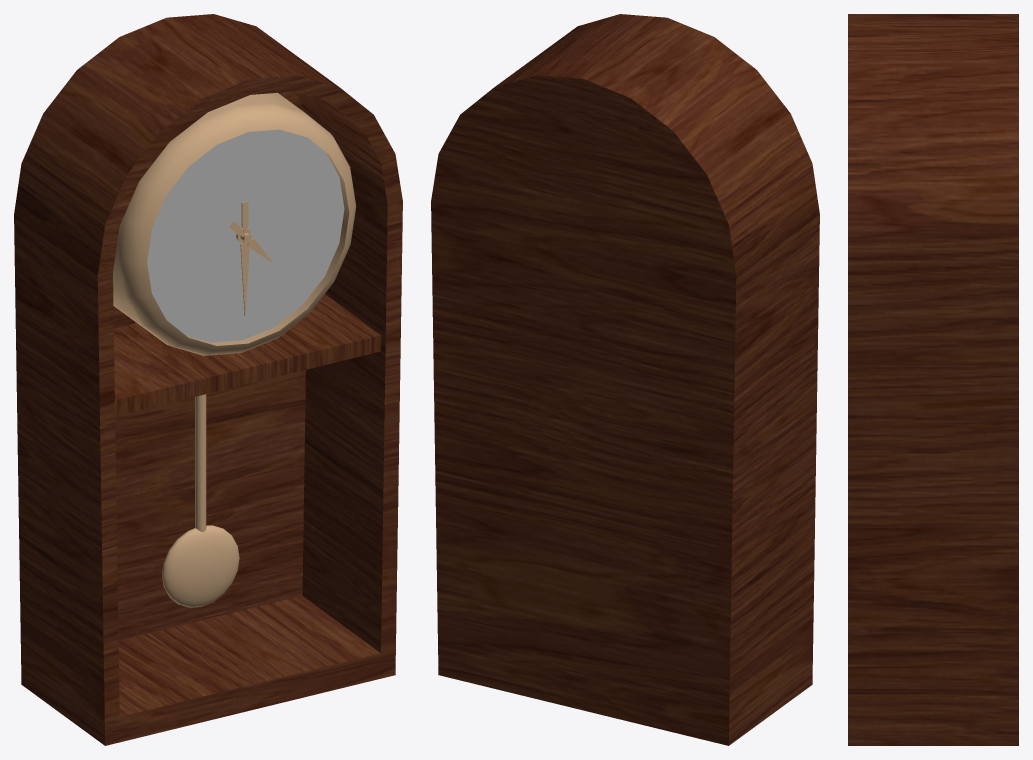
The model's file is clock.glb.
3 renders of one model, left to right at view 1: azimuth 30°, elevation 25°; view 2: azimuth 150°, elevation 25°; view 3: azimuth 270°, elevation 25°, orthographic.
Parts seen in each view (by area): view 1: klukka_pCube4; view 2: klukka_pCube4; view 3: klukka_pCube4.
Boxes of the visible parts, x1=… form: klukka_pCube4: x1=14, y1=14, x2=402, y2=745; klukka_pCube4: x1=431, y1=14, x2=819, y2=745; klukka_pCube4: x1=848, y1=14, x2=1018, y2=745.
Bounding box in the file's own units: 0.2738 × 0.5413 × 0.1301.
7 materials, 7 textured.
